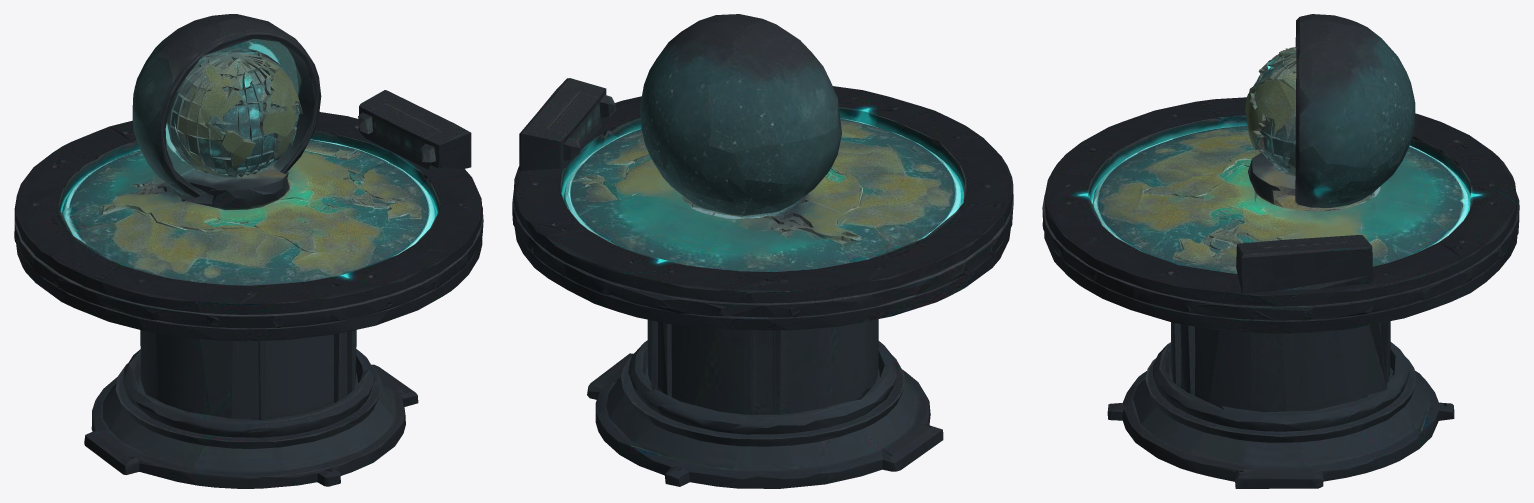
The model's file is holo_table.glb.
3 views of the same model, side by side, from view 1: azimuth 30°, elevation 25°; view 2: azimuth 150°, elevation 25°; view 3: azimuth 270°, elevation 25° (orthographic). The views are drawn at different scales.
Size of the model in its own units: 1.9 by 1.72 by 1.9.
Materials: 1 (1 with a texture image).
